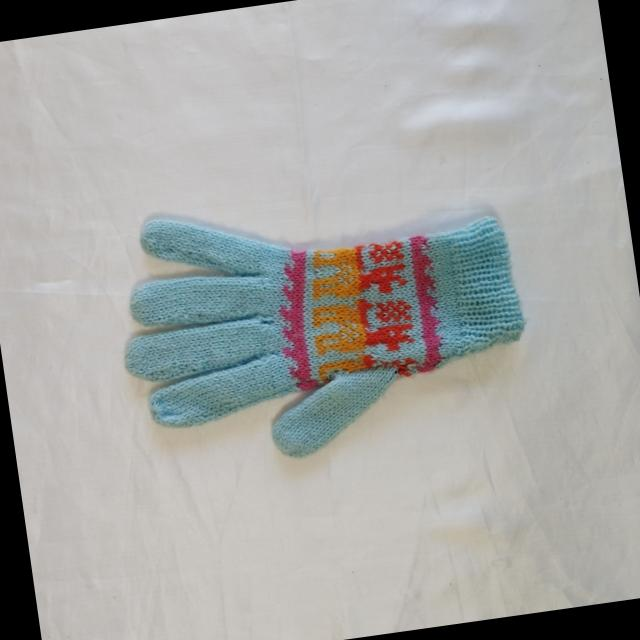Guante: (104, 168, 540, 480)
